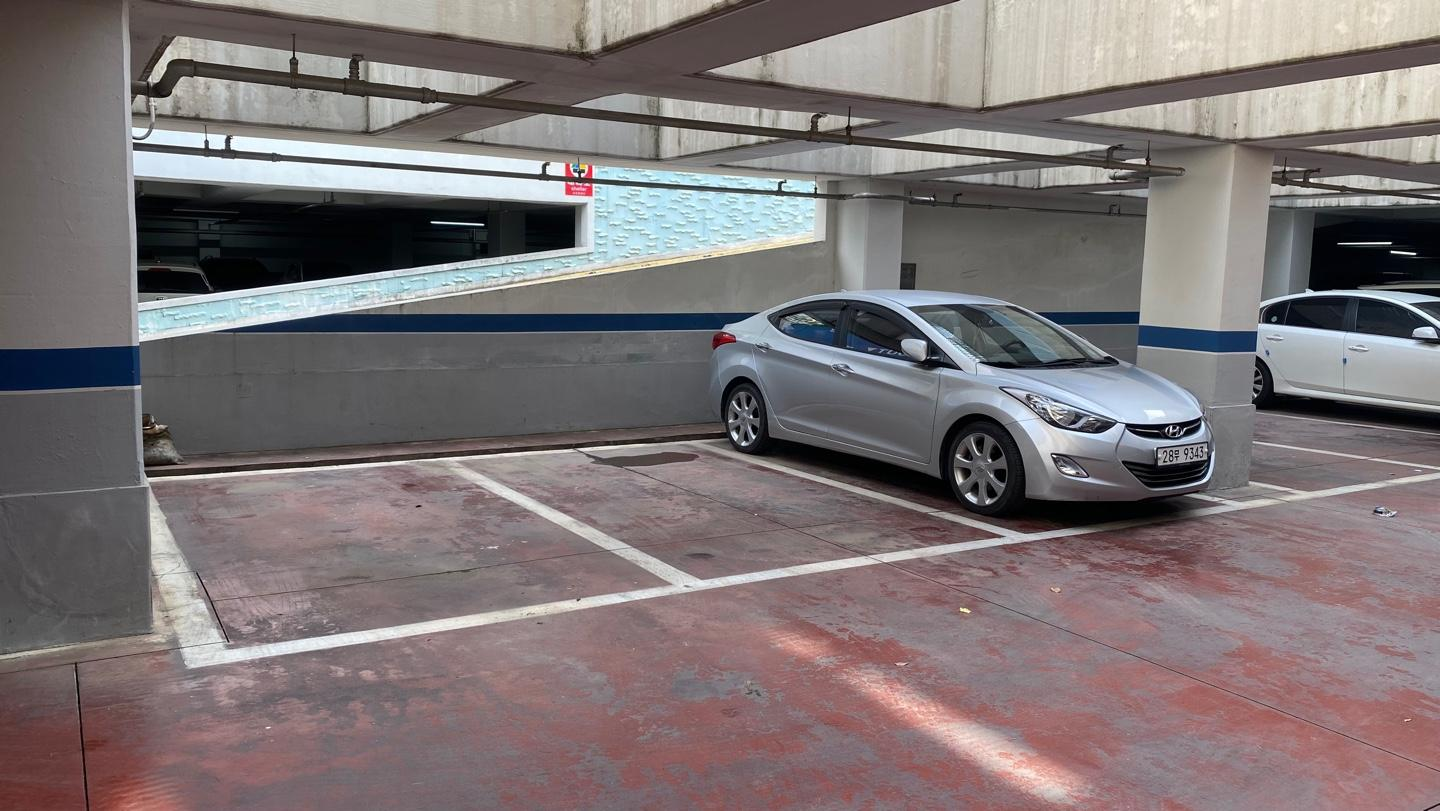empty: (135, 451, 721, 670), (430, 435, 1039, 594)
occupied: (724, 288, 1210, 498)
